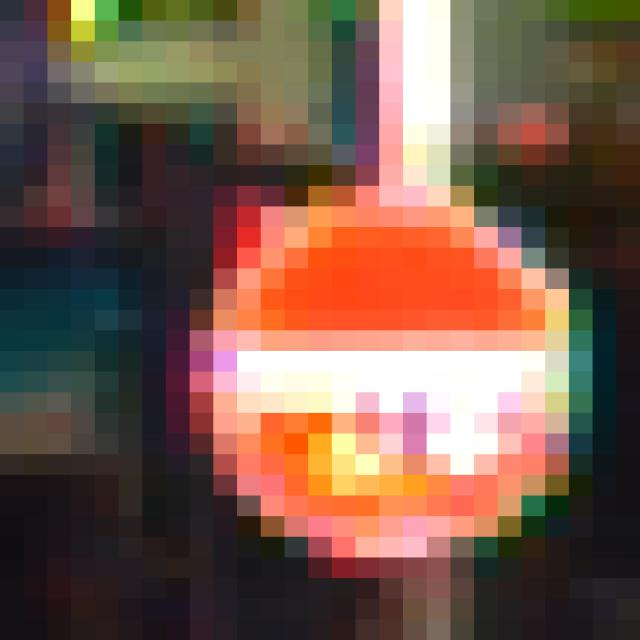No Entry: (143, 125, 523, 538)
